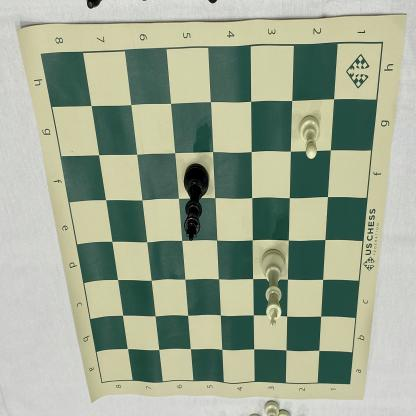black-king: (180, 161, 211, 245)
white-king: (260, 246, 288, 328)
white-pawn: (298, 113, 322, 162)
